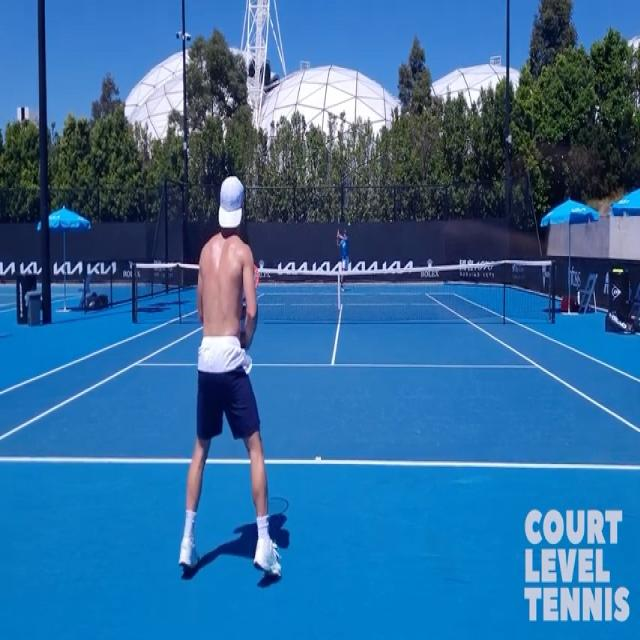ready-position: (178, 173, 290, 564)
